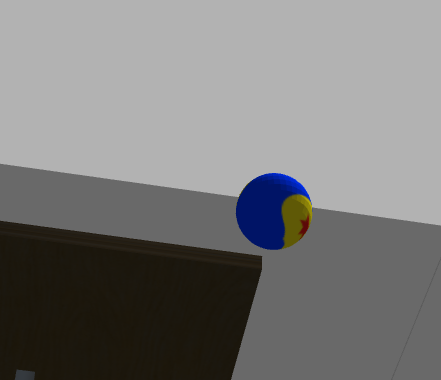toy_story_ball: (235, 173, 313, 251)
